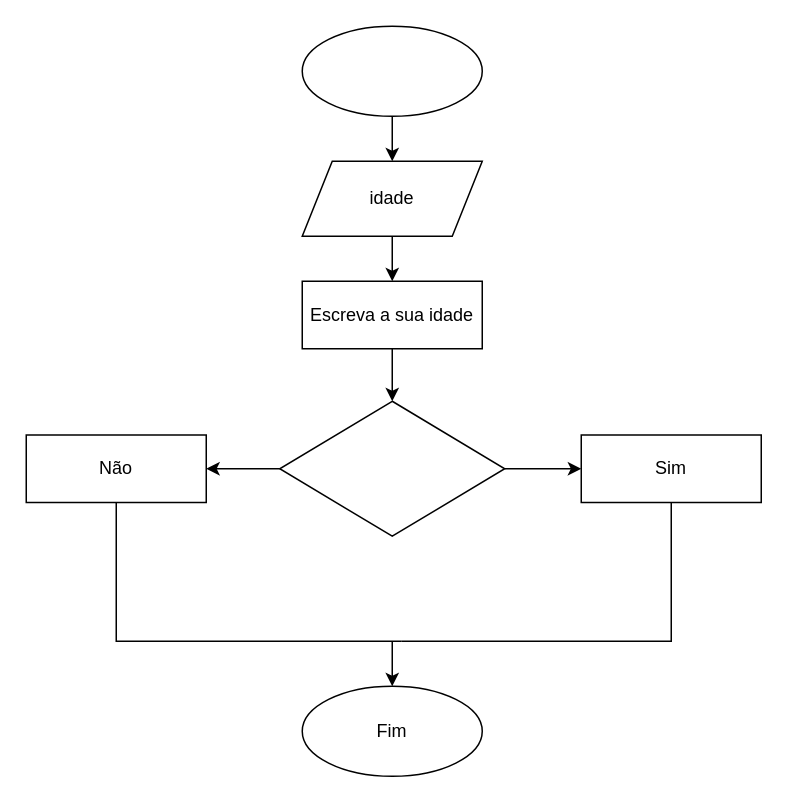
The diagram is 788 pixels wide and 803 high, and some of its shapes have lost their labels. The shapes that lost their labels are listed below. From the top down, each one's centre as x and y in pixels, then its label:
point (391, 70): Início
point (391, 468): A sua idade é maior que 18?
